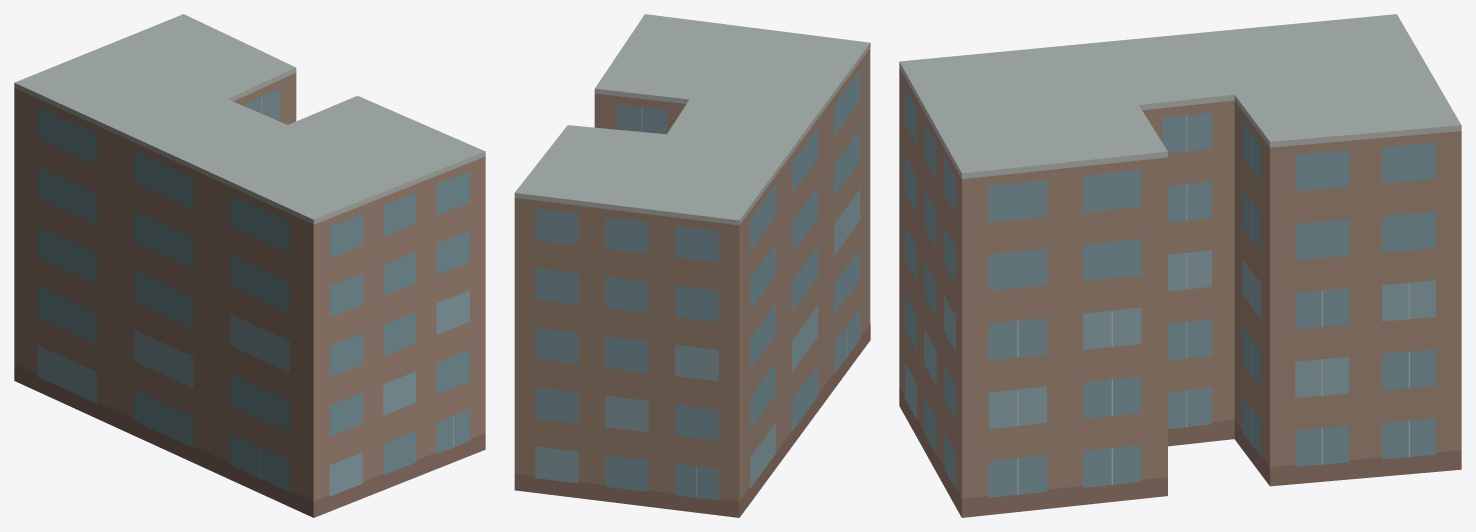
Rendered from survey-upis-32493040.glb.
3 views of the same model, side by side, from view 1: azimuth 30°, elevation 25°; view 2: azimuth 150°, elevation 25°; view 3: azimuth 270°, elevation 25° (orthographic). The views are drawn at different scales.
Parts seen in each view (by area): view 1: survey-upis-32493040.tmp; view 2: survey-upis-32493040.tmp; view 3: survey-upis-32493040.tmp.
Boxes of the visible parts, x1,y1,x2,y2 form: survey-upis-32493040.tmp: (14,14,485,517); survey-upis-32493040.tmp: (514,14,870,517); survey-upis-32493040.tmp: (899,14,1461,517).
Bounding box in the file's own units: 14.62 × 14.7 × 21.76.
